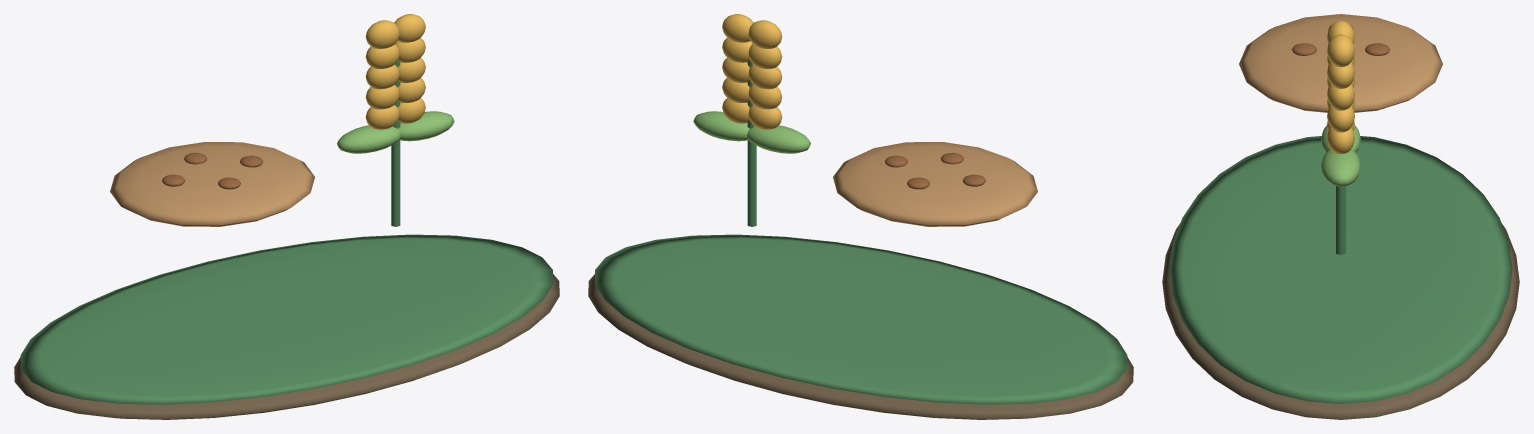
The model's file is dry-biscuit.glb.
3 views of the same model, side by side, from view 1: azimuth 30°, elevation 25°; view 2: azimuth 150°, elevation 25°; view 3: azimuth 270°, elevation 25° (orthographic). The views are drawn at different scales.
Visible parts, largest first — view 1: dry-biscuit_surface_01, dry-biscuit_surface_02, dry-biscuit_surface_00, dry-biscuit_surface_05, dry-biscuit_surface_04, dry-biscuit_surface_03; view 2: dry-biscuit_surface_01, dry-biscuit_surface_02, dry-biscuit_surface_00, dry-biscuit_surface_05, dry-biscuit_surface_04, dry-biscuit_surface_03; view 3: dry-biscuit_surface_01, dry-biscuit_surface_02, dry-biscuit_surface_00, dry-biscuit_surface_05, dry-biscuit_surface_04, dry-biscuit_surface_03.
Part boxes in pixels (<box>): dry-biscuit_surface_01: <box>20,60,553,404</box>; dry-biscuit_surface_02: <box>110,142,314,226</box>; dry-biscuit_surface_00: <box>14,274,559,419</box>; dry-biscuit_surface_05: <box>365,14,425,129</box>; dry-biscuit_surface_04: <box>337,111,454,153</box>; dry-biscuit_surface_03: <box>162,152,262,189</box>; dry-biscuit_surface_01: <box>594,60,1127,404</box>; dry-biscuit_surface_02: <box>833,142,1037,226</box>; dry-biscuit_surface_00: <box>588,274,1133,419</box>; dry-biscuit_surface_05: <box>722,14,782,129</box>; dry-biscuit_surface_04: <box>693,111,810,153</box>; dry-biscuit_surface_03: <box>885,152,985,189</box>; dry-biscuit_surface_01: <box>1169,136,1512,403</box>; dry-biscuit_surface_02: <box>1239,14,1442,112</box>; dry-biscuit_surface_00: <box>1162,224,1519,419</box>; dry-biscuit_surface_05: <box>1327,20,1354,153</box>; dry-biscuit_surface_04: <box>1321,125,1360,186</box>; dry-biscuit_surface_03: <box>1292,25,1389,55</box>.
Bounding box in the file's own units: 4.56 × 2.52 × 2.5.
